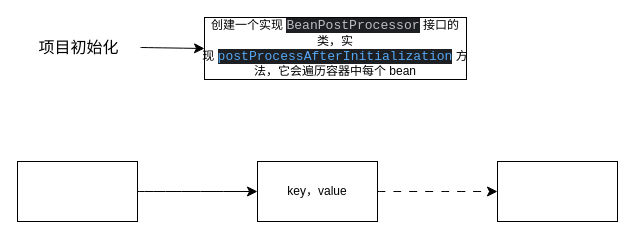
Image size: 635x239. Some labels were removed from this diagram. The shapes that lost their labels are listed below. From the top down, each one's centre as x and y in pixels, then its label:
(77,191): http 请求，生成 topic 消息
(557,191): 被订阅者消费，修改本地变量
